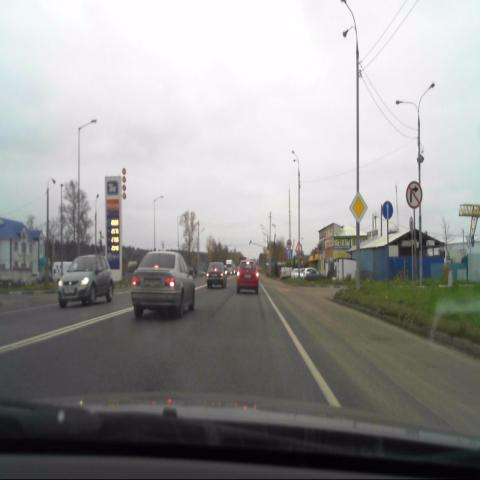3_18: (406, 181, 422, 209)
